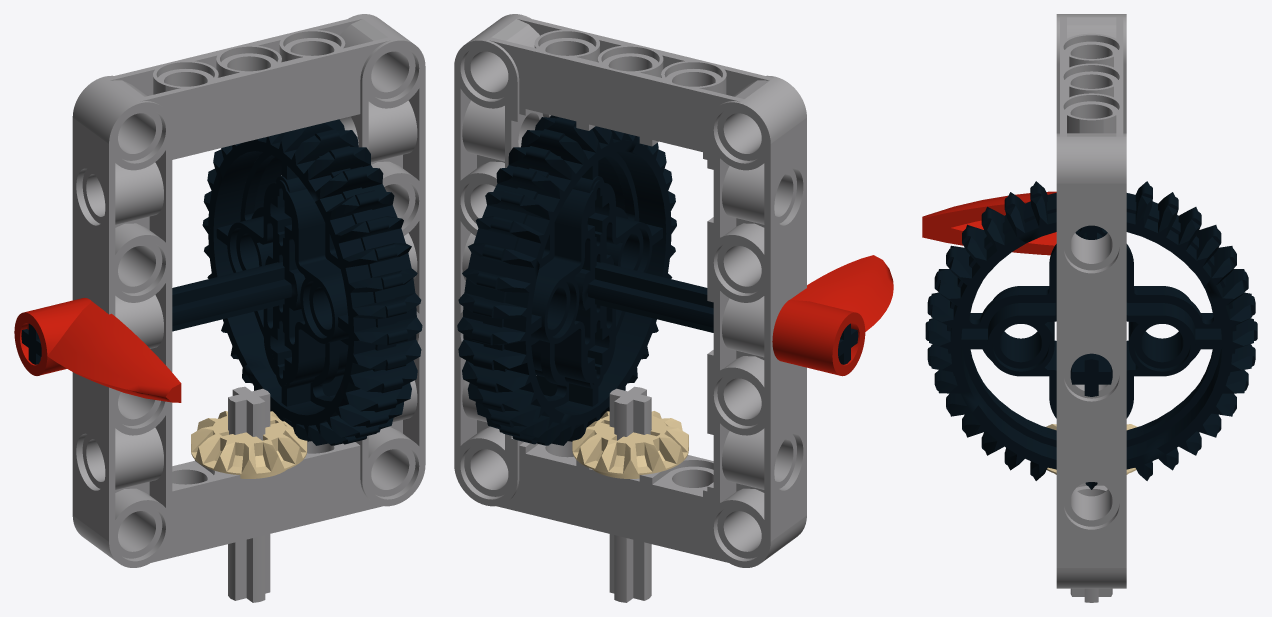
Rendered from 90_degree_4.glb.
The picture shows the model from 3 angles, left to right: view 1: azimuth 30°, elevation 25°; view 2: azimuth 150°, elevation 25°; view 3: azimuth 270°, elevation 25°; orthographic projection. The views are drawn at different scales.
Parts seen in each view (by area): view 1: 64179.dat, 41669.dat, 6589.dat, 4519.dat; view 2: 64179.dat, 41669.dat, 6589.dat, 4519.dat; view 3: 41669.dat, 64179.dat, 4519.dat.
Boxes of the visible parts, x1=… form: 64179.dat: x1=72, y1=14, x2=425, y2=567; 41669.dat: x1=14, y1=119, x2=422, y2=445; 6589.dat: x1=191, y1=411, x2=307, y2=478; 4519.dat: x1=228, y1=386, x2=270, y2=602; 64179.dat: x1=454, y1=14, x2=806, y2=567; 41669.dat: x1=457, y1=115, x2=893, y2=445; 6589.dat: x1=572, y1=411, x2=688, y2=478; 4519.dat: x1=609, y1=386, x2=651, y2=602; 41669.dat: x1=922, y1=181, x2=1257, y2=489; 64179.dat: x1=1056, y1=14, x2=1126, y2=588; 4519.dat: x1=1070, y1=588, x2=1112, y2=602.
Size of the model in its own units: 1.2 by 1.61 by 0.9473.
